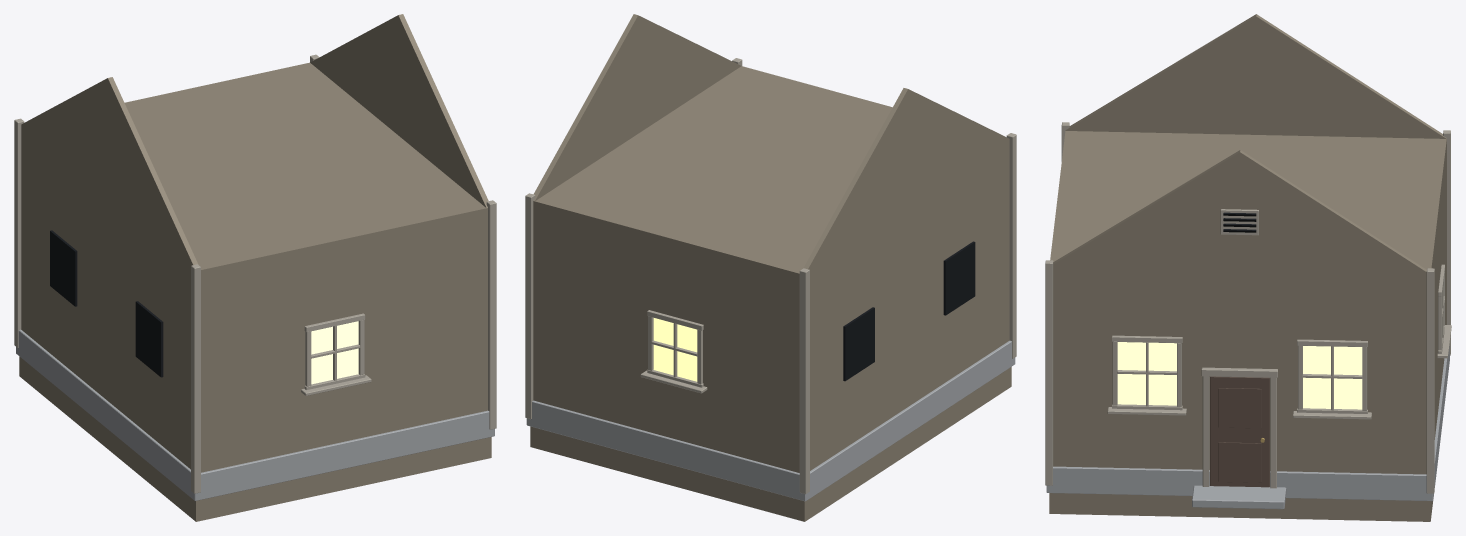
The model's file is house6_walls.glb.
The picture shows the model from 3 angles, left to right: view 1: azimuth 30°, elevation 25°; view 2: azimuth 150°, elevation 25°; view 3: azimuth 270°, elevation 25°; orthographic projection.
Parts seen in each view (by area): view 1: house6_walls; view 2: house6_walls; view 3: house6_walls.
Part boxes in pixels (<box>): house6_walls: <box>14,14,496,521</box>; house6_walls: <box>525,14,1016,521</box>; house6_walls: <box>1045,14,1451,521</box>.
Size of the model in its own units: 6.95 by 7.4 by 7.45.
